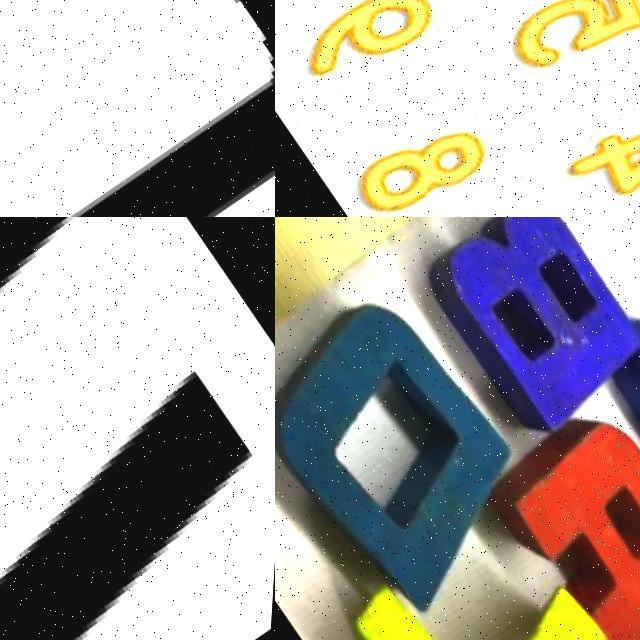4: (552, 65, 640, 217)
5: (493, 0, 640, 106)
8: (345, 87, 516, 217)
9: (283, 0, 462, 114)
A: (474, 382, 640, 640)
B: (400, 217, 640, 448)
D: (275, 274, 560, 614), (0, 0, 275, 217)
L: (345, 486, 640, 640)
P: (586, 296, 640, 543)
U: (0, 217, 275, 640)
